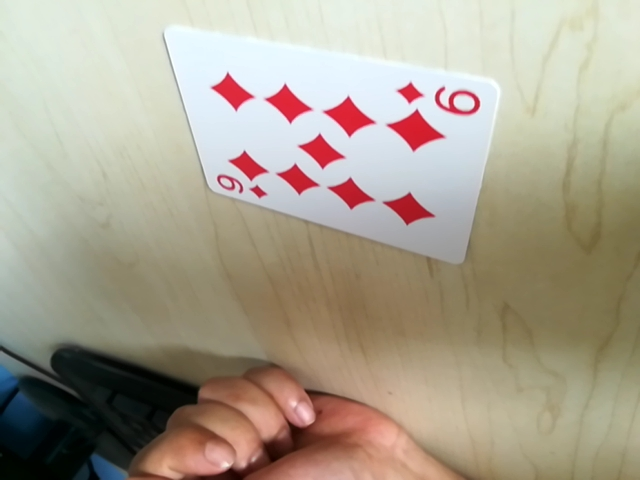fk 9: (395, 74, 486, 117), (211, 171, 270, 204)
